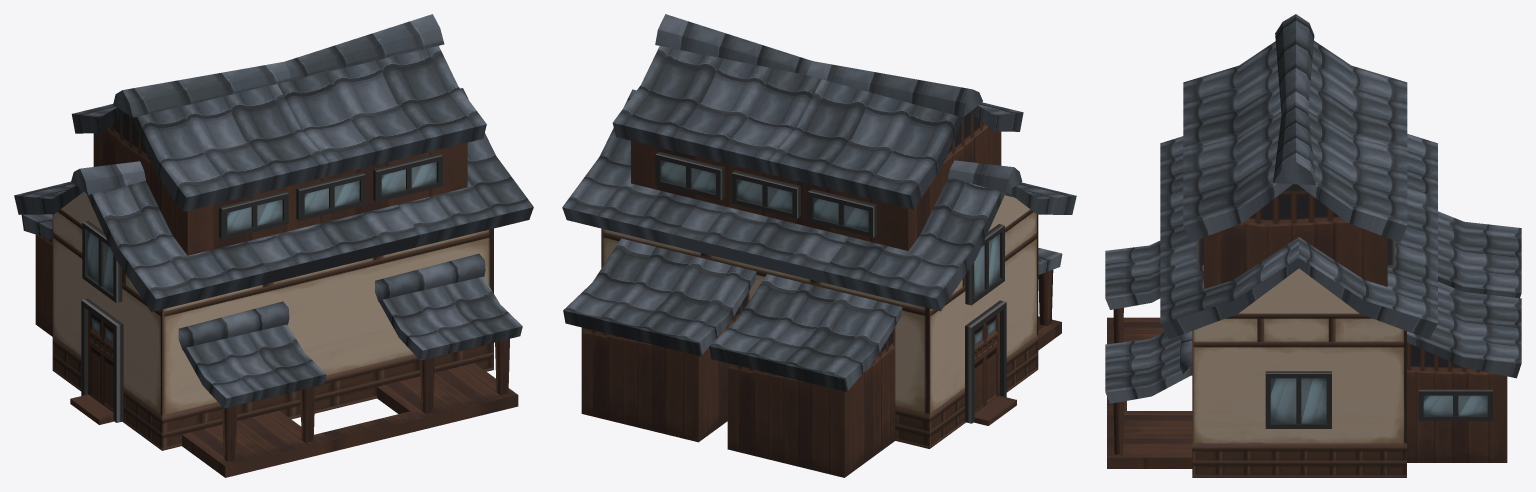
Rendered from old house-1.FBX.
The picture shows the model from 3 angles, left to right: view 1: azimuth 30°, elevation 25°; view 2: azimuth 150°, elevation 25°; view 3: azimuth 270°, elevation 25°; orthographic projection. The views are drawn at different scales.
Parts seen in each view (by area): view 1: old house-1; view 2: old house-1; view 3: old house-1.
Boxes of the visible parts, x1=… form: old house-1: x1=14, y1=14, x2=533, y2=477; old house-1: x1=562, y1=14, x2=1076, y2=477; old house-1: x1=1105, y1=14, x2=1521, y2=477.
Size of the model in its own units: 3975 by 3154 by 3808.
